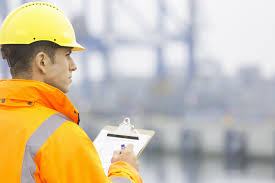Person_wearing_helmet: (2, 0, 88, 63)
